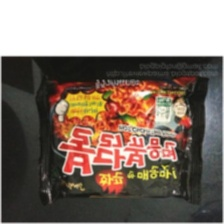snack: (28, 67, 212, 211)
